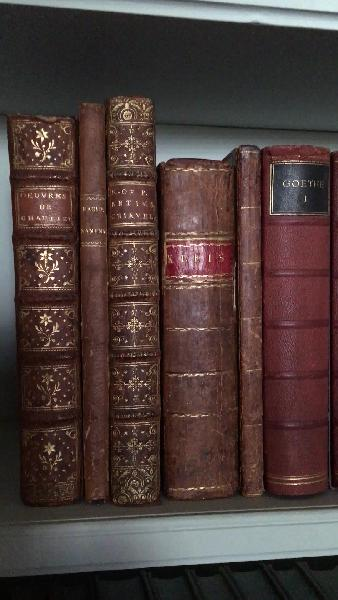Aa6-10: (233, 134, 271, 505)
Aa6-6: (6, 108, 83, 501)
Aa6-7: (76, 98, 109, 509)
Aa6-8: (107, 87, 166, 504)
Aa6-9: (157, 145, 239, 501)
